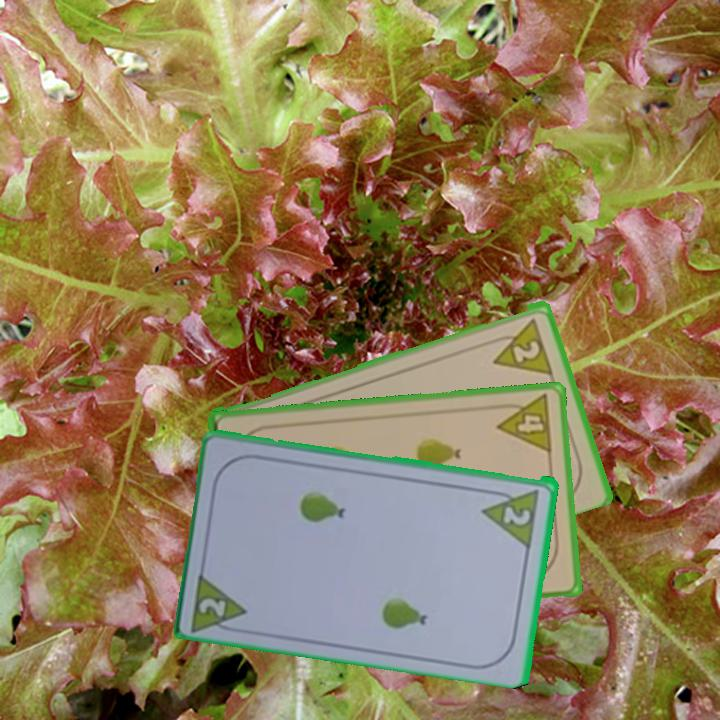2p: (187, 566, 251, 636), (480, 484, 543, 548), (509, 336, 543, 365)
4p: (492, 391, 555, 456)
